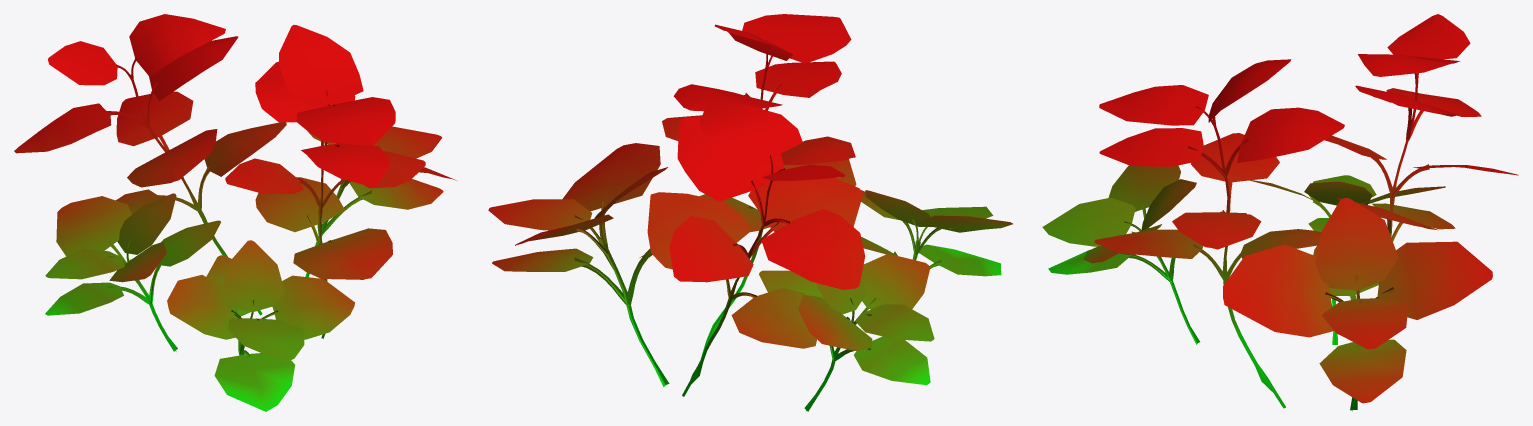
The model's file is Yellow Archangel_LOD0_Var12_wcwmcfvia.fbx.
3 views of the same model, side by side, from view 1: azimuth 30°, elevation 25°; view 2: azimuth 150°, elevation 25°; view 3: azimuth 270°, elevation 25° (orthographic). The views are drawn at different scales.
Visible parts, largest first — view 1: _v1do_Var12_LOD0; view 2: _v1do_Var12_LOD0; view 3: _v1do_Var12_LOD0.
Boxes of the visible parts, x1,y1,x2,y2 form: _v1do_Var12_LOD0: [14, 14, 456, 411]; _v1do_Var12_LOD0: [488, 14, 1012, 411]; _v1do_Var12_LOD0: [1042, 14, 1518, 411].
Size of the model in its own units: 9.1 by 6.85 by 8.77.
